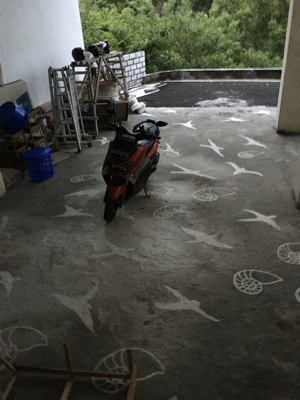moto: (102, 114, 168, 227)
